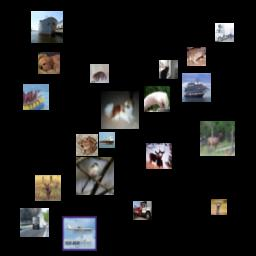airplane: (62, 216, 97, 251)
bird: (76, 157, 114, 195), (144, 86, 170, 112), (211, 199, 227, 215)
cat: (159, 60, 178, 79), (90, 64, 109, 83)
deer: (200, 121, 235, 156), (146, 143, 172, 169), (35, 175, 61, 201)
dog: (101, 91, 139, 129), (38, 52, 60, 74)
frog: (76, 134, 98, 156), (187, 47, 206, 66)
ship: (31, 11, 63, 43), (182, 73, 211, 102), (23, 84, 49, 110), (99, 132, 115, 148)
truck: (20, 208, 49, 237), (133, 201, 152, 220), (215, 23, 234, 42)
